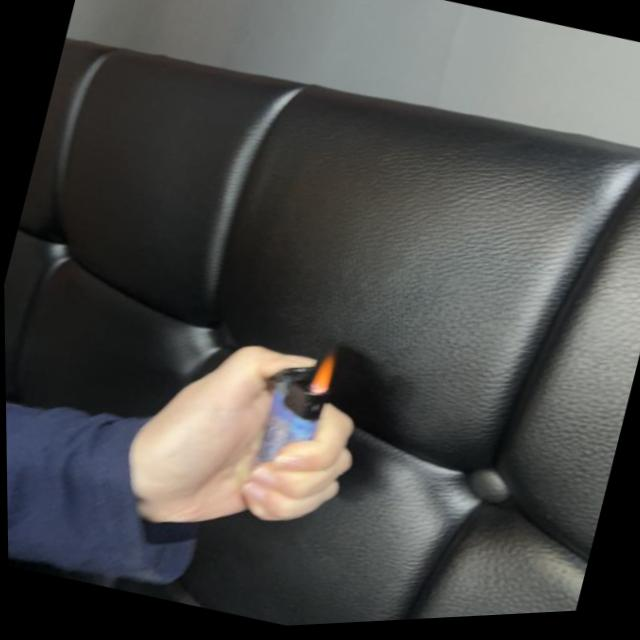Fire: (302, 348, 336, 401)
